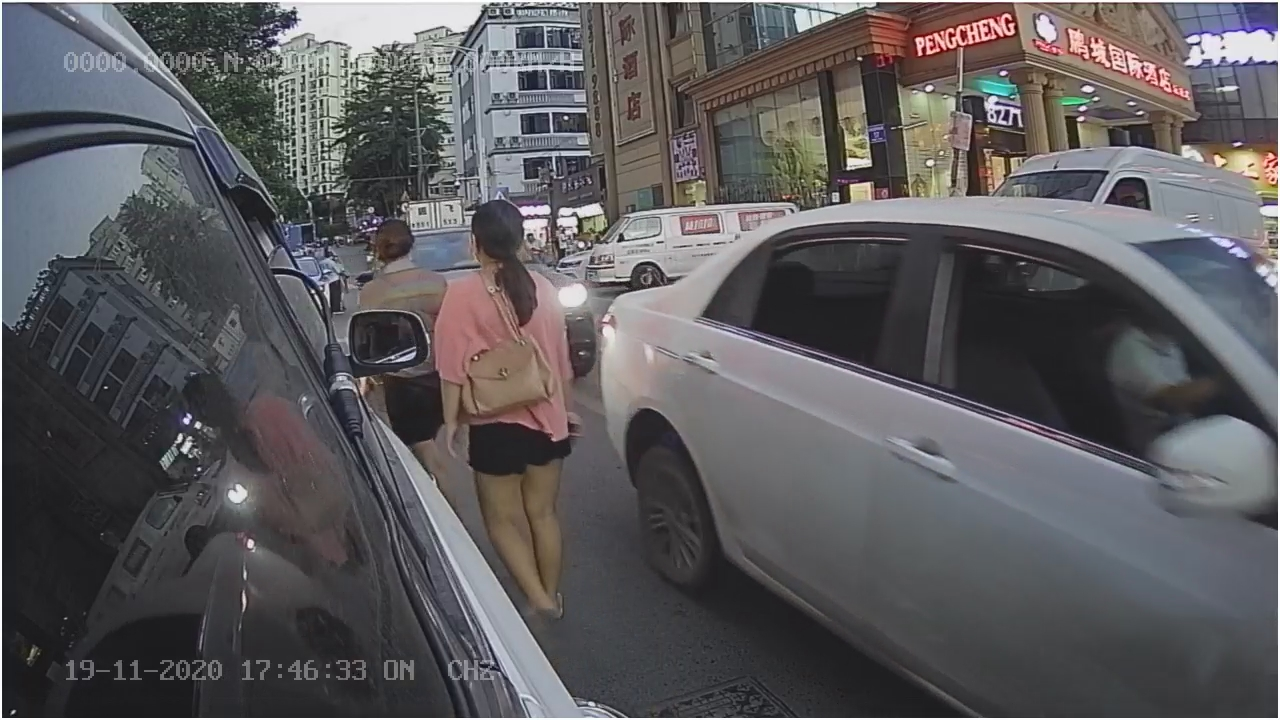person: (430, 213, 571, 488)
